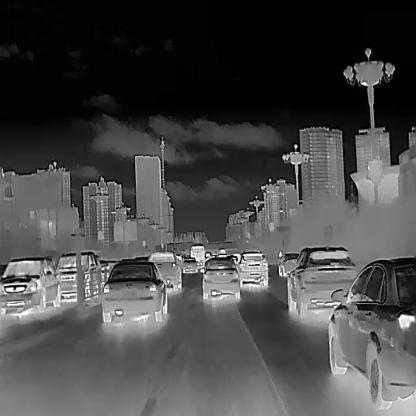car: (326, 255, 416, 410), (286, 244, 354, 317), (101, 258, 167, 322), (0, 251, 59, 313), (53, 250, 102, 298), (201, 254, 239, 298), (146, 251, 182, 290), (236, 249, 266, 287), (276, 250, 300, 277), (181, 256, 196, 273)
truck: (190, 242, 204, 270)
